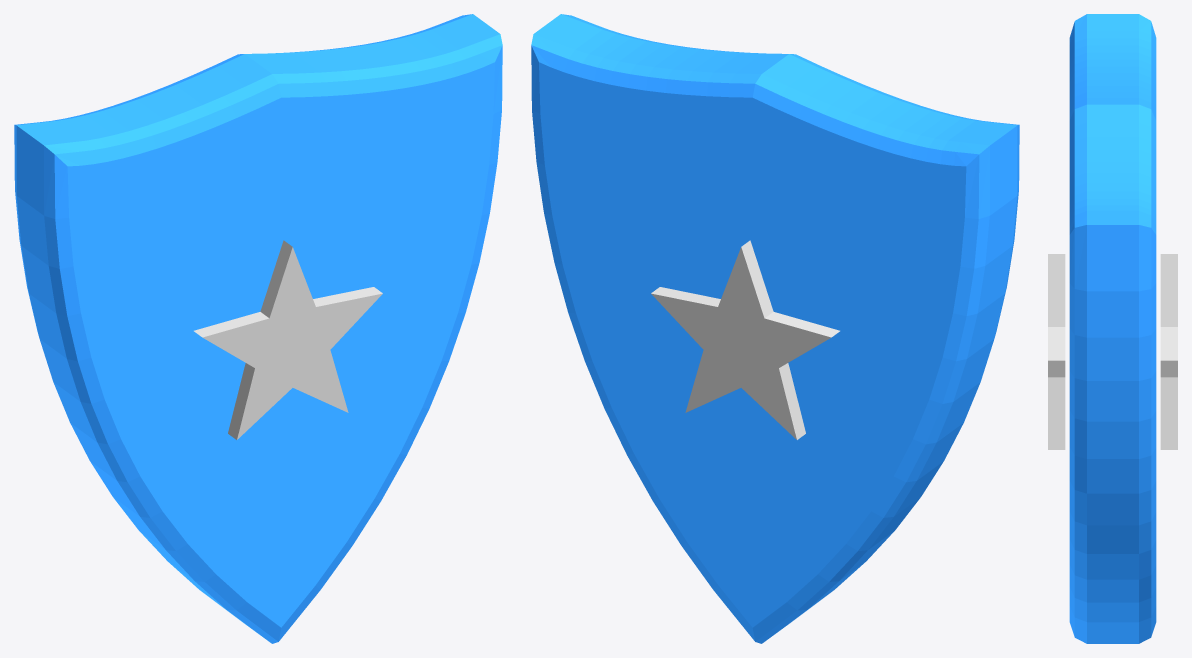
The model's file is shield.glb.
3 views of the same model, side by side, from view 1: azimuth 30°, elevation 25°; view 2: azimuth 150°, elevation 25°; view 3: azimuth 270°, elevation 25° (orthographic). The views are drawn at different scales.
Parts seen in each view (by area): view 1: ShieldPickup_ShieldBlue, ShieldPickup_ShieldWhite; view 2: ShieldPickup_ShieldBlue, ShieldPickup_ShieldWhite; view 3: ShieldPickup_ShieldBlue, ShieldPickup_ShieldWhite.
Boxes of the visible parts, x1,y1,x2,y2 form: ShieldPickup_ShieldBlue: (14,14,502,643); ShieldPickup_ShieldWhite: (194,240,382,439); ShieldPickup_ShieldBlue: (531,14,1019,643); ShieldPickup_ShieldWhite: (651,240,839,439); ShieldPickup_ShieldBlue: (1069,14,1156,643); ShieldPickup_ShieldWhite: (1048,254,1177,449).
Size of the model in its own units: 0.5768 by 0.688 by 0.15.
